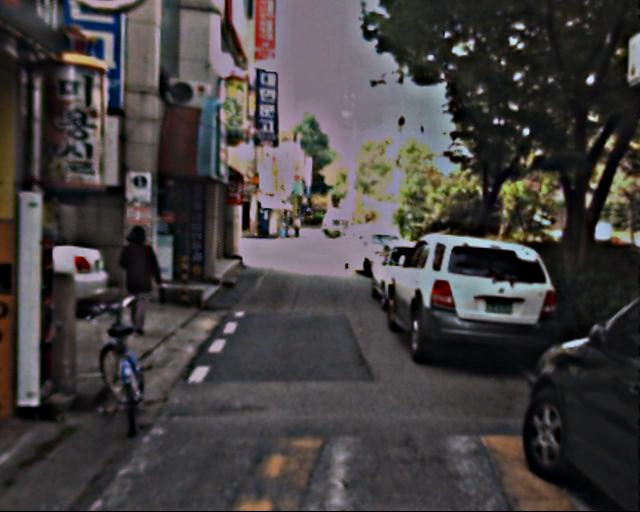person: (114, 220, 166, 334)
